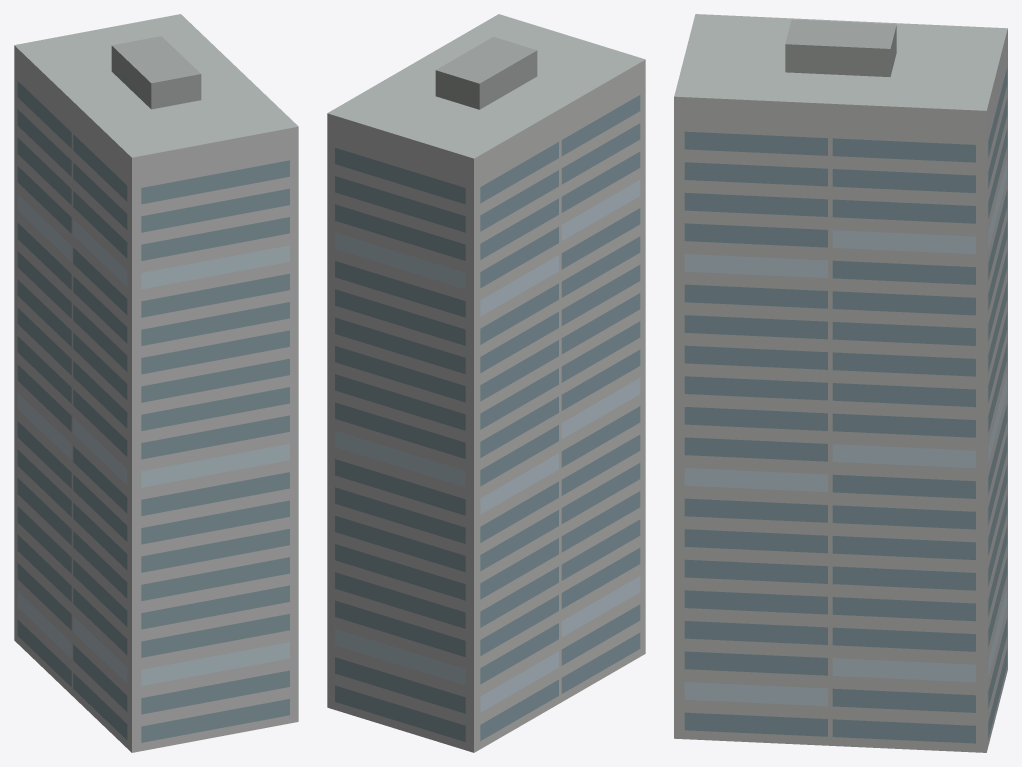
Rendered from fallback-sk-bukhansan-city-111.glb.
3 renders of one model, left to right at view 1: azimuth 30°, elevation 25°; view 2: azimuth 150°, elevation 25°; view 3: azimuth 270°, elevation 25°, orthographic. The views are drawn at different scales.
Parts seen in each view (by area): view 1: fallback-sk-bukhansan-city-111; view 2: fallback-sk-bukhansan-city-111; view 3: fallback-sk-bukhansan-city-111.
Part boxes in pixels (left/top/right/bottom): fallback-sk-bukhansan-city-111: left=14, top=14, right=298, bottom=752; fallback-sk-bukhansan-city-111: left=327, top=14, right=645, bottom=752; fallback-sk-bukhansan-city-111: left=674, top=14, right=1007, bottom=752.
Bounding box in the file's own units: 17.67 × 57 × 25.71.
